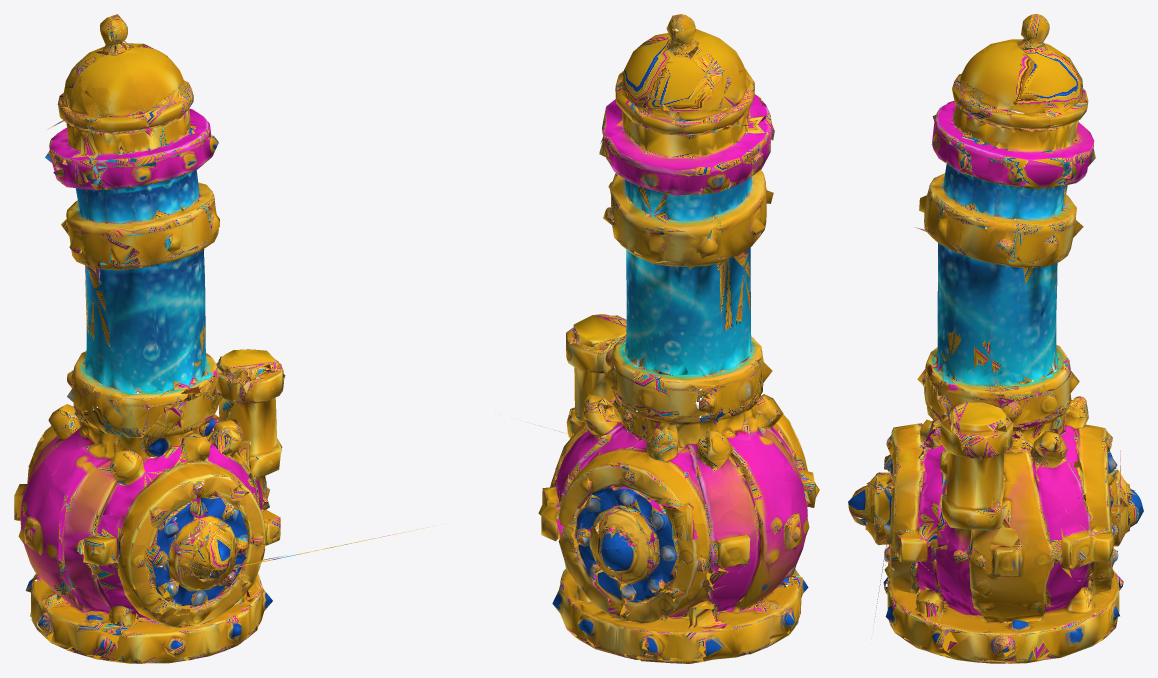
Rendered from Glowing_Water_Tower_Claudia_Small.glb.
The picture shows the model from 3 angles, left to right: view 1: azimuth 30°, elevation 25°; view 2: azimuth 150°, elevation 25°; view 3: azimuth 270°, elevation 25°; orthographic projection. The views are drawn at different scales.
Visible parts, largest first — view 1: world; view 2: world; view 3: world.
Part boxes in pixels (x1,y1,x2,y2): world: [14, 14, 435, 663]; world: [538, 14, 819, 663]; world: [848, 14, 1143, 663].
Bounding box in the file's own units: 1.24 × 1.9 × 0.8622.
Materials: 1 (1 with a texture image).
